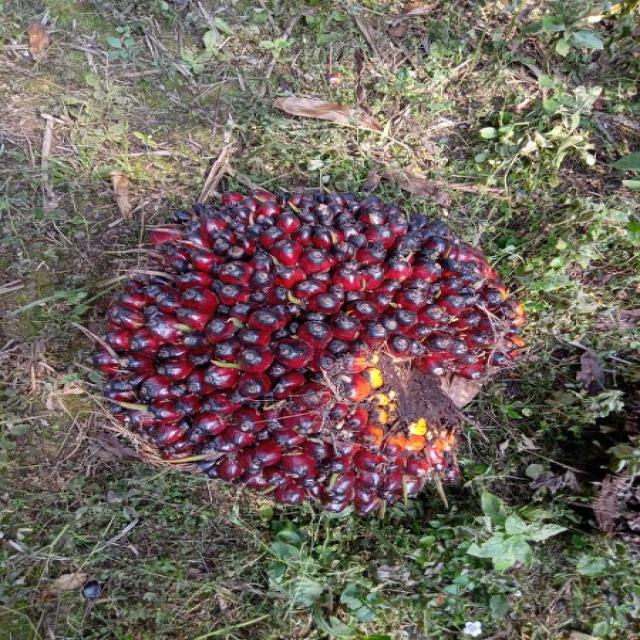fraksi 1: (82, 188, 518, 528)
